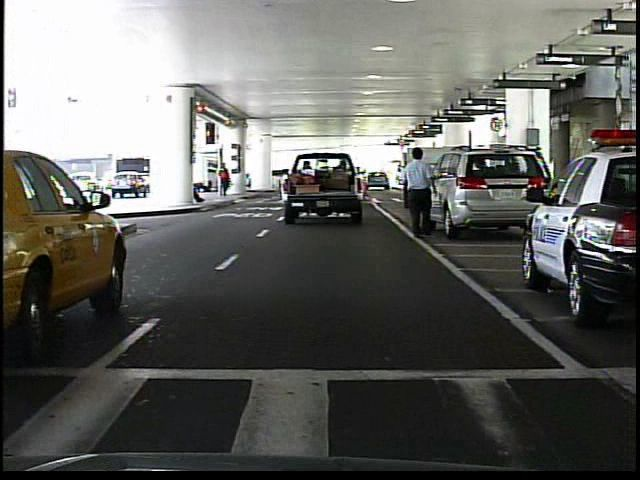person: (398, 144, 442, 239), (217, 162, 236, 200)
